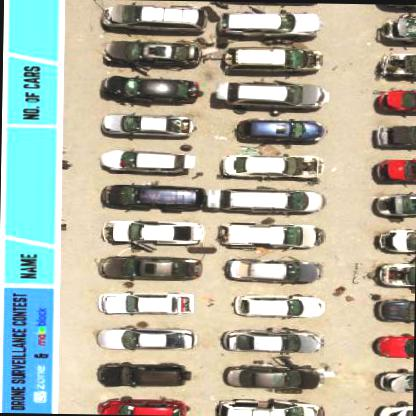car: (101, 38, 222, 70), (100, 72, 202, 106), (102, 0, 210, 30), (98, 253, 202, 281), (100, 216, 202, 244), (217, 151, 319, 179), (219, 80, 327, 106), (223, 363, 325, 390), (218, 8, 322, 34), (230, 115, 324, 143), (101, 183, 201, 209), (219, 325, 316, 351), (223, 44, 326, 68), (97, 360, 185, 388), (216, 222, 318, 246), (98, 290, 198, 314), (227, 257, 323, 282), (207, 186, 315, 208), (98, 325, 196, 349), (102, 111, 192, 137), (233, 293, 322, 318), (101, 147, 192, 171), (216, 397, 331, 415), (98, 393, 188, 415), (372, 186, 416, 219), (377, 10, 415, 44), (374, 87, 415, 116), (374, 123, 415, 150), (372, 329, 413, 356)
